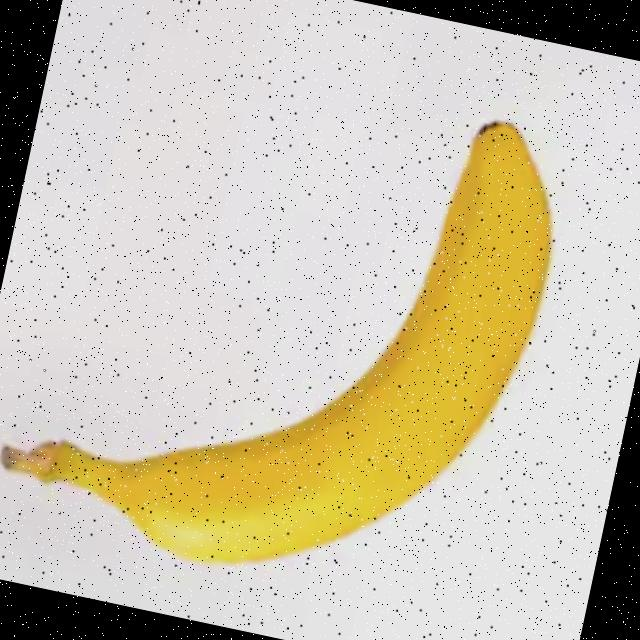Ripe: (0, 22, 579, 624)
